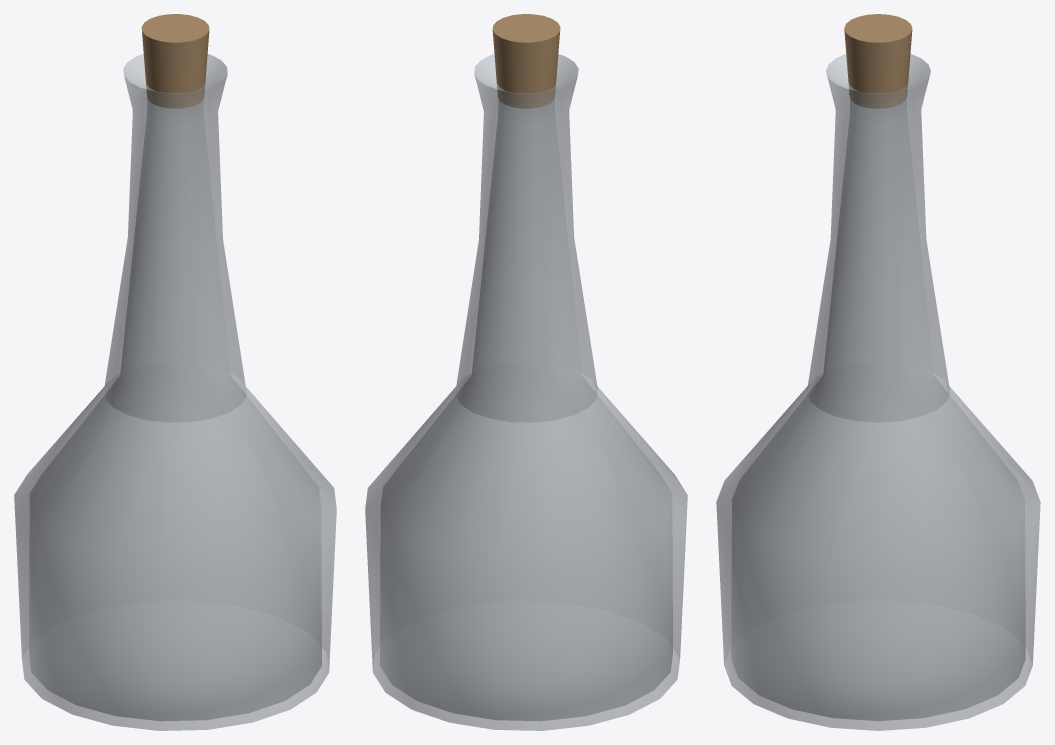
The picture shows the model from 3 angles, left to right: view 1: azimuth 30°, elevation 25°; view 2: azimuth 150°, elevation 25°; view 3: azimuth 270°, elevation 25°; orthographic projection.
Visible parts, largest first — view 1: potion_bottle:pPipe2; view 2: potion_bottle:pPipe2; view 3: potion_bottle:pPipe2.
Boxes of the visible parts, <box> form: potion_bottle:pPipe2: <box>14,14,336,730</box>; potion_bottle:pPipe2: <box>365,14,687,730</box>; potion_bottle:pPipe2: <box>716,14,1040,730</box>.
Bounding box in the file's own units: 0.6822 × 1.52 × 0.6822.
